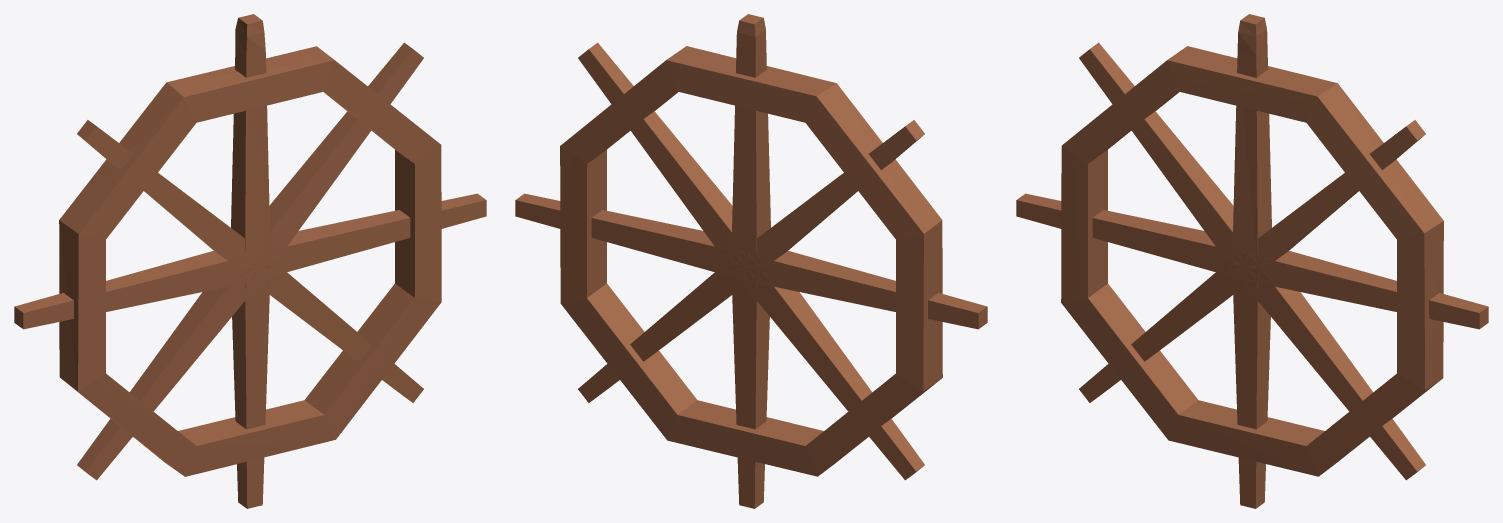
Rendered from Ship_01_3.fbx.
The picture shows the model from 3 angles, left to right: view 1: azimuth 30°, elevation 25°; view 2: azimuth 150°, elevation 25°; view 3: azimuth 330°, elevation 25°; orthographic projection.
Visible parts, largest first — view 1: Ship_01_3; view 2: Ship_01_3; view 3: Ship_01_3.
Part boxes in pixels (left/top/right/bottom): Ship_01_3: left=14, top=14, right=486, bottom=508; Ship_01_3: left=515, top=14, right=987, bottom=508; Ship_01_3: left=1016, top=14, right=1488, bottom=508.
Bounding box in the file's own units: 75.54 × 75.54 × 5.68.
